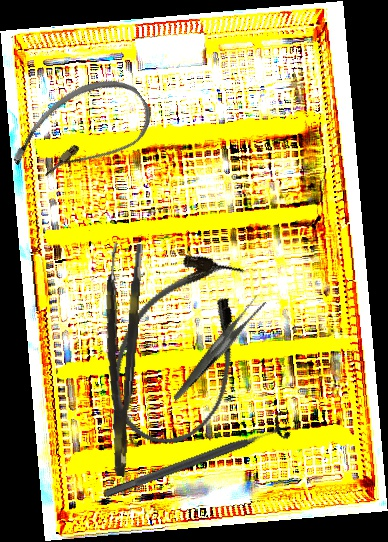Cannula: (91, 237, 270, 461), (0, 59, 163, 208)
Dressing Forceps: (150, 292, 286, 402)
Fixation Ring: (98, 409, 293, 509)
Tissue Forceps: (93, 242, 145, 477)
